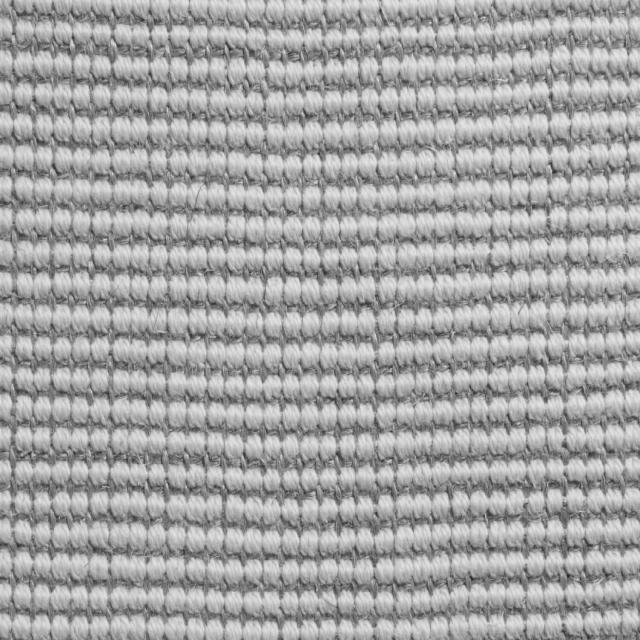Knot: (378, 53, 400, 86), (91, 178, 114, 208), (92, 112, 112, 146), (13, 270, 33, 304), (14, 332, 34, 366), (88, 23, 112, 51), (244, 214, 266, 244), (148, 276, 170, 306), (12, 238, 34, 267), (150, 241, 168, 276), (34, 111, 54, 142), (264, 152, 284, 183), (112, 24, 134, 52), (128, 401, 150, 429), (36, 238, 54, 272), (34, 50, 55, 79), (378, 152, 399, 181), (73, 112, 92, 144), (14, 16, 34, 46), (37, 16, 57, 46), (170, 26, 190, 56), (150, 114, 170, 144), (14, 174, 34, 204), (150, 179, 170, 209), (188, 182, 208, 212), (264, 278, 284, 308), (34, 335, 54, 365), (320, 528, 340, 558), (285, 56, 303, 89), (399, 53, 417, 86), (15, 110, 34, 141), (435, 120, 456, 148), (566, 300, 587, 328), (266, 119, 286, 148), (584, 519, 604, 548), (16, 48, 34, 80), (54, 112, 72, 144), (54, 239, 72, 271), (131, 240, 149, 272), (168, 243, 186, 275), (188, 244, 206, 276), (34, 272, 52, 304), (112, 274, 130, 306), (54, 334, 72, 366), (14, 210, 36, 236), (70, 211, 92, 237), (568, 238, 590, 264), (222, 588, 244, 614), (113, 112, 132, 142), (170, 114, 189, 144), (209, 182, 228, 212), (93, 241, 112, 271), (72, 274, 91, 304), (189, 309, 208, 339), (247, 433, 266, 463), (263, 467, 282, 497), (248, 56, 265, 89), (150, 26, 170, 54), (322, 28, 342, 56), (284, 2, 304, 30), (532, 52, 552, 80), (572, 50, 592, 78), (246, 120, 266, 148), (304, 122, 324, 150), (304, 154, 324, 182), (167, 212, 187, 240), (302, 216, 322, 244), (72, 241, 92, 269), (284, 246, 304, 274), (357, 278, 377, 306), (14, 304, 34, 332), (168, 308, 188, 336), (432, 306, 452, 334), (606, 304, 626, 332), (186, 343, 206, 371), (226, 344, 246, 372), (300, 346, 320, 374), (34, 524, 54, 552), (90, 397, 110, 425), (280, 590, 300, 618), (318, 558, 338, 586), (526, 430, 546, 458), (131, 275, 149, 306), (303, 277, 321, 308), (70, 394, 88, 425), (282, 313, 301, 342), (436, 56, 457, 82), (528, 180, 549, 206), (324, 152, 341, 184), (341, 308, 358, 340), (151, 432, 167, 466), (339, 466, 356, 498), (170, 56, 190, 83), (210, 56, 228, 86), (286, 120, 304, 150), (286, 152, 304, 182), (359, 152, 377, 182), (54, 176, 72, 206), (228, 182, 246, 212), (112, 242, 130, 272), (208, 244, 226, 274), (244, 248, 264, 275), (358, 247, 378, 274), (399, 244, 417, 274), (608, 237, 626, 267), (53, 274, 71, 304), (92, 274, 110, 304), (246, 278, 264, 308), (340, 276, 358, 306), (92, 304, 110, 334), (131, 306, 149, 336), (397, 309, 415, 339), (72, 336, 90, 366), (112, 336, 130, 366), (226, 496, 244, 526), (282, 469, 300, 499), (302, 526, 320, 556), (488, 426, 506, 456), (566, 426, 584, 456), (513, 53, 532, 81), (437, 87, 456, 115), (379, 122, 398, 150), (303, 184, 322, 212), (188, 214, 207, 242), (378, 246, 397, 274), (435, 274, 454, 302), (111, 306, 130, 334), (377, 310, 396, 338), (511, 305, 530, 333), (452, 340, 471, 368), (167, 371, 186, 399), (224, 558, 243, 586), (244, 498, 263, 526), (244, 558, 263, 586), (548, 148, 570, 172), (266, 56, 284, 85), (228, 119, 246, 148), (246, 152, 264, 181), (245, 183, 263, 212), (608, 176, 626, 205), (322, 216, 340, 245), (266, 246, 284, 275), (358, 310, 376, 339), (282, 344, 300, 373), (52, 492, 70, 521), (54, 557, 72, 586), (128, 523, 146, 552), (322, 2, 342, 28), (112, 86, 132, 112), (512, 86, 532, 112), (456, 121, 476, 147), (264, 186, 284, 212), (434, 183, 454, 209), (434, 214, 454, 240), (510, 274, 530, 300), (32, 305, 52, 331), (301, 312, 321, 338), (490, 306, 510, 332), (148, 338, 168, 364), (146, 370, 166, 396), (225, 376, 245, 402), (128, 464, 148, 490), (356, 467, 376, 493), (412, 466, 432, 492), (565, 489, 585, 515), (526, 522, 546, 548), (506, 556, 526, 582), (13, 584, 32, 611), (243, 467, 262, 494), (282, 560, 301, 587), (451, 524, 470, 551), (54, 18, 70, 50), (134, 20, 150, 52), (322, 310, 339, 340), (416, 308, 433, 338), (207, 493, 224, 523), (525, 493, 547, 516), (190, 28, 208, 56), (304, 28, 322, 56), (265, 2, 286, 26), (458, 54, 476, 82), (495, 54, 513, 82), (610, 50, 628, 78), (190, 117, 208, 145), (208, 118, 226, 146), (360, 122, 378, 150), (74, 147, 92, 175), (228, 152, 246, 180), (418, 152, 436, 180), (436, 150, 454, 178), (52, 208, 70, 236), (284, 216, 302, 244), (589, 207, 607, 235), (322, 248, 340, 276), (340, 248, 358, 276), (170, 278, 188, 306), (209, 278, 227, 306), (284, 278, 302, 306), (380, 274, 398, 302), (398, 276, 416, 304), (587, 270, 605, 298), (72, 306, 90, 334), (228, 312, 246, 340), (246, 314, 264, 342), (472, 306, 490, 334), (530, 305, 548, 333), (588, 302, 606, 330), (92, 336, 110, 364), (207, 343, 225, 371), (263, 349, 281, 377), (414, 372, 432, 400), (52, 460, 70, 488), (130, 432, 148, 460), (129, 490, 147, 518), (129, 555, 147, 583), (169, 402, 187, 430), (189, 404, 207, 432), (188, 436, 206, 464), (186, 498, 204, 526), (226, 528, 244, 556), (319, 590, 337, 618), (338, 402, 356, 430), (508, 426, 526, 454), (507, 522, 525, 550), (547, 520, 565, 548), (584, 612, 602, 640), (604, 612, 622, 640), (378, 29, 398, 54), (92, 86, 112, 111), (531, 119, 551, 144), (552, 119, 572, 144), (378, 187, 398, 212), (506, 462, 526, 487), (230, 56, 246, 87), (322, 277, 338, 308), (210, 309, 226, 340), (15, 82, 34, 108), (456, 88, 475, 114), (189, 280, 208, 306), (453, 307, 472, 333), (52, 588, 71, 614), (471, 523, 488, 552), (342, 28, 360, 55), (113, 56, 131, 83), (132, 54, 150, 81), (210, 151, 228, 178), (474, 149, 492, 176), (607, 207, 625, 234), (568, 271, 586, 298), (606, 270, 624, 297), (548, 302, 566, 329), (128, 370, 146, 397), (248, 406, 266, 433), (432, 432, 450, 459), (374, 555, 392, 582), (622, 609, 640, 636), (436, 30, 458, 52), (375, 375, 397, 397), (70, 21, 86, 51), (512, 26, 532, 50), (571, 20, 591, 44), (304, 94, 324, 118), (572, 84, 592, 108), (398, 124, 418, 148), (188, 152, 208, 176), (571, 148, 591, 172), (34, 148, 54, 172), (170, 180, 186, 210), (92, 212, 112, 236), (112, 212, 132, 236), (510, 212, 530, 236), (228, 244, 244, 274), (510, 240, 530, 264), (548, 240, 568, 264), (548, 272, 568, 296), (168, 466, 188, 490), (186, 560, 206, 584), (284, 434, 299, 466), (432, 406, 452, 430), (586, 396, 606, 420), (566, 556, 586, 580), (287, 28, 304, 56), (74, 178, 91, 206), (455, 182, 472, 210), (380, 216, 397, 244), (417, 274, 434, 302), (339, 346, 356, 374), (338, 434, 355, 462), (92, 55, 111, 80), (112, 150, 131, 175), (359, 497, 378, 522), (565, 615, 584, 640), (592, 18, 610, 44), (0, 42, 13, 78), (190, 58, 208, 84), (226, 2, 244, 28), (552, 50, 570, 76), (35, 83, 53, 109), (54, 84, 72, 110), (247, 93, 265, 119), (418, 88, 436, 114), (456, 150, 474, 176), (512, 150, 530, 176), (530, 148, 548, 174), (16, 145, 34, 171), (56, 148, 74, 174), (492, 182, 510, 208), (398, 214, 416, 240), (455, 214, 473, 240), (570, 208, 588, 234), (434, 244, 452, 270), (0, 266, 13, 302), (491, 274, 509, 300), (52, 306, 70, 332), (320, 347, 338, 373), (604, 337, 622, 363), (16, 368, 34, 394), (434, 372, 452, 398), (70, 526, 88, 552), (93, 588, 111, 614), (111, 493, 129, 519), (188, 530, 206, 556), (208, 404, 226, 430), (320, 406, 338, 432), (319, 436, 337, 462), (320, 500, 338, 526), (378, 436, 396, 462), (546, 428, 564, 454), (587, 460, 605, 486), (546, 555, 564, 581), (586, 551, 604, 577), (342, 154, 358, 183), (266, 214, 282, 243), (228, 276, 244, 305), (474, 272, 490, 301), (532, 273, 548, 302), (16, 553, 32, 582), (490, 522, 506, 551), (265, 30, 286, 52), (565, 463, 586, 485), (488, 340, 508, 363), (400, 151, 417, 178), (170, 88, 189, 112), (267, 92, 286, 116), (92, 150, 111, 174), (550, 182, 569, 206), (454, 246, 473, 270), (52, 370, 71, 394), (604, 429, 623, 453), (544, 460, 563, 484), (374, 528, 393, 552), (526, 615, 545, 639), (400, 30, 418, 55), (458, 29, 476, 54), (190, 90, 208, 115), (512, 119, 530, 144), (472, 183, 490, 208), (530, 240, 548, 265), (90, 427, 108, 452), (114, 460, 129, 490), (130, 586, 148, 611), (148, 495, 166, 520), (206, 467, 224, 492), (301, 591, 319, 616), (395, 556, 413, 581), (152, 56, 168, 84), (440, 0, 456, 28), (418, 55, 434, 83), (594, 50, 610, 78), (132, 114, 148, 142), (494, 148, 510, 176), (36, 176, 52, 204), (115, 180, 131, 208), (133, 180, 149, 208), (304, 246, 320, 274), (418, 246, 434, 274), (456, 274, 472, 302), (150, 308, 166, 336), (0, 332, 14, 364), (588, 336, 604, 364), (72, 430, 88, 458), (149, 522, 165, 550), (170, 432, 186, 460), (188, 586, 204, 614), (226, 467, 242, 495), (264, 558, 280, 586), (358, 404, 374, 432), (568, 522, 584, 550), (470, 554, 486, 582), (477, 56, 494, 82), (211, 90, 228, 116), (623, 267, 640, 293), (357, 346, 374, 372), (228, 406, 245, 432), (244, 530, 261, 556), (340, 502, 357, 528), (452, 430, 469, 456), (378, 466, 395, 492), (471, 586, 488, 612), (474, 4, 496, 24), (572, 118, 592, 140), (148, 151, 168, 173), (358, 220, 378, 242), (567, 340, 587, 362), (264, 380, 284, 402), (490, 370, 510, 392), (51, 618, 71, 640), (524, 588, 544, 610), (550, 212, 569, 235), (357, 560, 372, 589), (56, 53, 72, 80), (304, 60, 322, 84), (456, 2, 474, 26), (151, 88, 169, 112), (494, 86, 512, 110), (532, 84, 550, 108), (494, 120, 512, 144), (608, 146, 626, 170), (398, 186, 416, 210), (571, 181, 589, 205), (148, 214, 166, 238), (208, 214, 226, 238), (491, 214, 509, 238), (530, 213, 548, 237), (590, 240, 608, 264), (266, 312, 282, 339), (396, 343, 414, 367), (415, 343, 433, 367), (603, 364, 621, 388), (12, 615, 30, 639), (150, 468, 168, 492), (150, 585, 166, 612), (168, 586, 184, 613), (262, 532, 280, 556), (282, 502, 300, 526), (300, 408, 318, 432), (322, 468, 338, 495), (376, 402, 394, 426), (398, 406, 416, 430), (568, 397, 584, 424), (586, 427, 602, 454), (472, 466, 490, 490), (526, 554, 544, 578), (545, 585, 561, 612), (546, 616, 564, 640), (360, 30, 377, 55), (622, 395, 639, 420), (89, 1, 110, 21), (417, 214, 432, 242), (625, 298, 640, 326), (0, 366, 15, 394), (94, 490, 108, 520), (151, 401, 166, 429), (190, 467, 205, 495), (285, 404, 300, 432), (471, 430, 486, 458), (564, 584, 584, 605), (531, 26, 550, 48), (469, 400, 488, 422), (621, 554, 640, 576), (230, 92, 246, 118), (400, 88, 416, 114), (476, 86, 492, 112), (592, 114, 608, 140), (285, 186, 301, 212), (418, 184, 434, 210), (512, 182, 528, 208), (228, 214, 244, 240), (131, 338, 147, 364), (434, 342, 450, 368), (190, 374, 206, 400), (356, 376, 372, 402), (569, 367, 585, 393), (16, 464, 32, 490), (36, 494, 52, 520), (54, 400, 70, 426), (72, 462, 88, 488), (92, 456, 108, 482), (112, 402, 128, 428), (113, 554, 129, 580), (168, 496, 184, 522), (208, 436, 224, 462), (245, 592, 261, 618), (266, 437, 282, 463), (264, 500, 280, 526), (416, 404, 432, 430), (414, 434, 430, 460), (432, 494, 448, 520), (468, 492, 484, 518), (588, 490, 604, 516), (434, 558, 450, 584), (488, 556, 504, 582), (477, 28, 495, 51), (341, 63, 359, 86), (325, 93, 343, 116), (362, 93, 380, 116), (380, 91, 398, 114), (360, 187, 378, 210), (590, 180, 608, 203), (338, 378, 356, 401), (186, 617, 204, 640), (396, 588, 414, 611), (377, 344, 394, 368), (548, 368, 565, 392), (54, 430, 71, 454), (605, 396, 622, 420), (378, 590, 395, 614), (453, 588, 470, 612), (451, 616, 468, 640), (0, 206, 14, 235), (18, 428, 32, 457), (606, 520, 620, 549), (207, 587, 222, 614), (228, 435, 243, 462), (416, 556, 431, 583), (0, 238, 13, 269), (324, 60, 340, 85), (420, 2, 436, 27), (287, 93, 303, 118), (418, 122, 434, 147), (477, 120, 493, 145), (324, 186, 340, 211), (473, 214, 489, 239), (112, 432, 128, 457), (208, 530, 224, 555), (396, 434, 412, 459), (606, 460, 622, 485), (452, 496, 468, 521), (622, 492, 638, 517), (397, 525, 413, 550), (226, 29, 245, 50), (246, 30, 264, 52), (552, 22, 570, 44), (592, 84, 610, 106), (170, 152, 188, 174), (92, 371, 110, 393), (72, 617, 90, 639), (263, 592, 281, 614), (544, 402, 562, 424), (452, 466, 470, 488), (414, 588, 432, 610), (470, 616, 488, 638), (0, 110, 14, 138), (247, 346, 261, 374), (0, 398, 14, 426), (58, 524, 72, 552), (268, 407, 282, 435), (226, 617, 243, 640), (623, 460, 640, 483), (604, 553, 621, 576), (0, 174, 13, 204), (342, 186, 357, 212), (36, 210, 51, 236), (530, 338, 545, 364), (36, 461, 51, 487), (170, 524, 185, 550), (207, 558, 222, 584), (360, 438, 375, 464), (416, 526, 431, 552), (74, 86, 90, 110), (326, 124, 342, 148), (344, 125, 360, 149), (592, 148, 608, 172), (170, 343, 186, 367), (624, 336, 640, 360), (208, 376, 224, 400), (397, 374, 413, 398), (17, 400, 33, 424), (16, 523, 32, 547), (34, 428, 50, 452), (38, 556, 54, 580), (92, 556, 108, 580), (148, 556, 164, 580), (282, 528, 298, 552), (302, 440, 318, 464), (302, 562, 318, 586), (528, 400, 544, 424), (434, 466, 450, 490), (378, 498, 394, 522), (414, 496, 430, 520), (507, 494, 523, 518), (622, 522, 638, 546), (489, 586, 505, 610), (508, 614, 524, 638), (518, 4, 534, 28), (496, 26, 510, 53), (626, 206, 640, 233), (112, 524, 126, 551), (338, 561, 352, 588), (528, 463, 546, 484), (455, 556, 469, 583), (454, 371, 469, 396), (113, 587, 128, 612), (131, 615, 146, 640), (418, 30, 435, 52), (73, 56, 90, 78), (73, 372, 90, 394), (470, 372, 487, 394), (113, 615, 130, 637), (508, 402, 525, 424), (604, 490, 621, 512), (133, 87, 149, 110), (132, 213, 148, 236), (35, 369, 51, 392), (247, 378, 263, 401), (510, 368, 526, 391), (148, 615, 164, 638), (168, 617, 184, 640), (0, 14, 14, 40), (1, 81, 14, 109), (627, 176, 640, 204), (470, 340, 484, 366), (36, 584, 50, 610), (169, 556, 183, 582), (358, 528, 372, 554), (624, 426, 638, 452), (360, 64, 378, 84), (610, 84, 628, 104), (0, 145, 15, 169), (321, 376, 336, 400), (206, 618, 224, 638), (341, 530, 356, 554), (396, 466, 411, 490), (434, 526, 449, 550), (432, 590, 450, 610), (506, 586, 524, 606), (585, 584, 603, 604), (209, 30, 225, 52), (344, 93, 360, 115), (132, 150, 148, 172), (494, 246, 510, 268), (112, 372, 128, 394), (302, 379, 318, 401), (623, 364, 639, 386), (36, 400, 52, 422), (302, 498, 318, 520), (338, 590, 354, 612), (490, 402, 506, 424), (490, 464, 506, 486), (606, 582, 622, 604), (554, 2, 570, 24), (1, 304, 14, 331), (512, 338, 526, 363), (284, 377, 299, 400), (72, 586, 87, 609), (547, 493, 565, 512), (114, 2, 131, 22), (474, 248, 491, 268), (489, 616, 506, 636), (611, 20, 625, 44), (306, 2, 320, 26), (342, 217, 356, 241), (530, 370, 544, 394), (36, 616, 50, 640), (75, 492, 89, 516), (340, 618, 356, 639), (492, 493, 506, 517), (453, 401, 468, 423), (0, 428, 12, 455), (282, 619, 300, 637), (588, 367, 602, 390), (552, 82, 568, 102), (610, 114, 626, 134), (303, 620, 319, 640), (376, 618, 392, 638), (396, 500, 412, 520), (412, 616, 428, 636), (628, 50, 640, 76), (628, 237, 640, 263), (626, 114, 640, 136), (16, 496, 30, 518), (72, 557, 86, 579), (92, 528, 106, 550), (359, 618, 373, 640), (322, 621, 338, 640), (628, 146, 640, 170), (244, 622, 262, 638), (264, 620, 280, 638), (627, 22, 640, 44), (307, 468, 320, 490), (57, 0, 71, 20), (1, 583, 11, 611), (94, 617, 108, 637), (356, 593, 370, 612), (624, 584, 638, 603), (550, 340, 562, 362), (0, 492, 12, 514), (0, 520, 10, 546), (432, 621, 448, 637), (628, 85, 640, 106), (398, 617, 410, 638), (2, 551, 12, 576), (2, 614, 12, 636), (74, 3, 88, 18), (2, 462, 10, 486)
